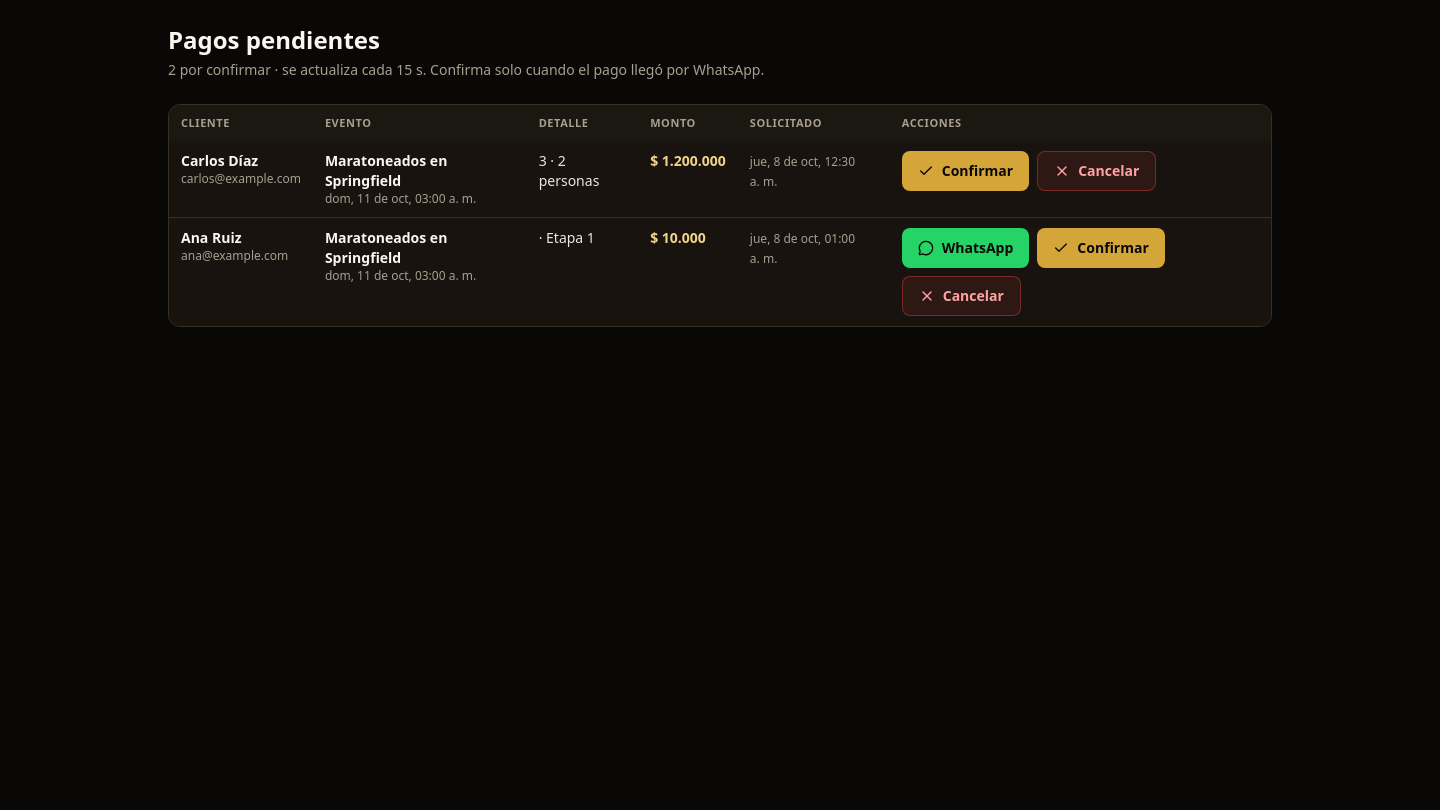
Test: AdminPaymentsPage › cancelar un tiquete envía la cancelación tras confirmar en el modal
Click the button with aria-label "Cancelar solicitud de Ana Ruiz" at (961, 296), box [902,276,1021,316]
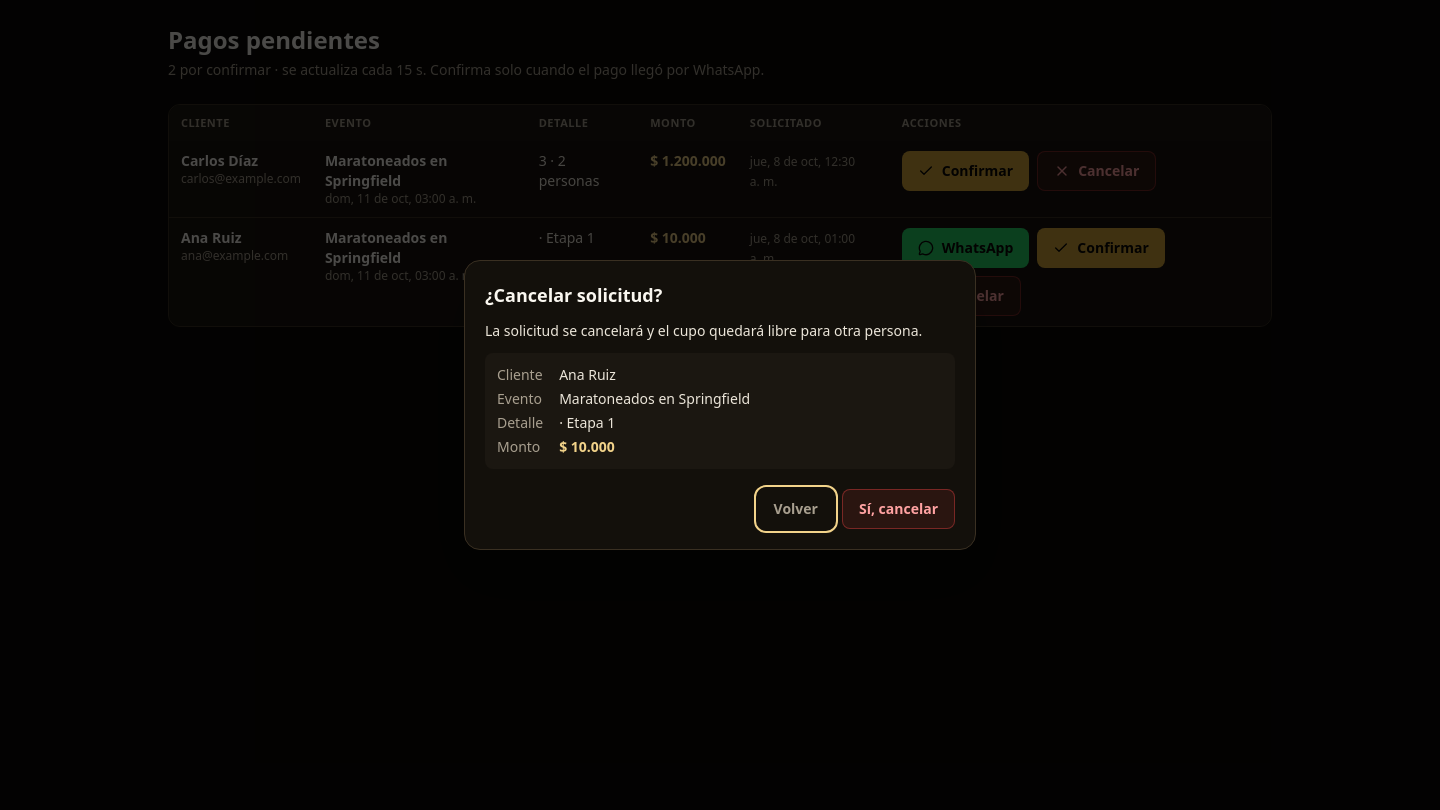
Click the button "Sí, cancelar" at (898, 509), box [842,489,955,529]
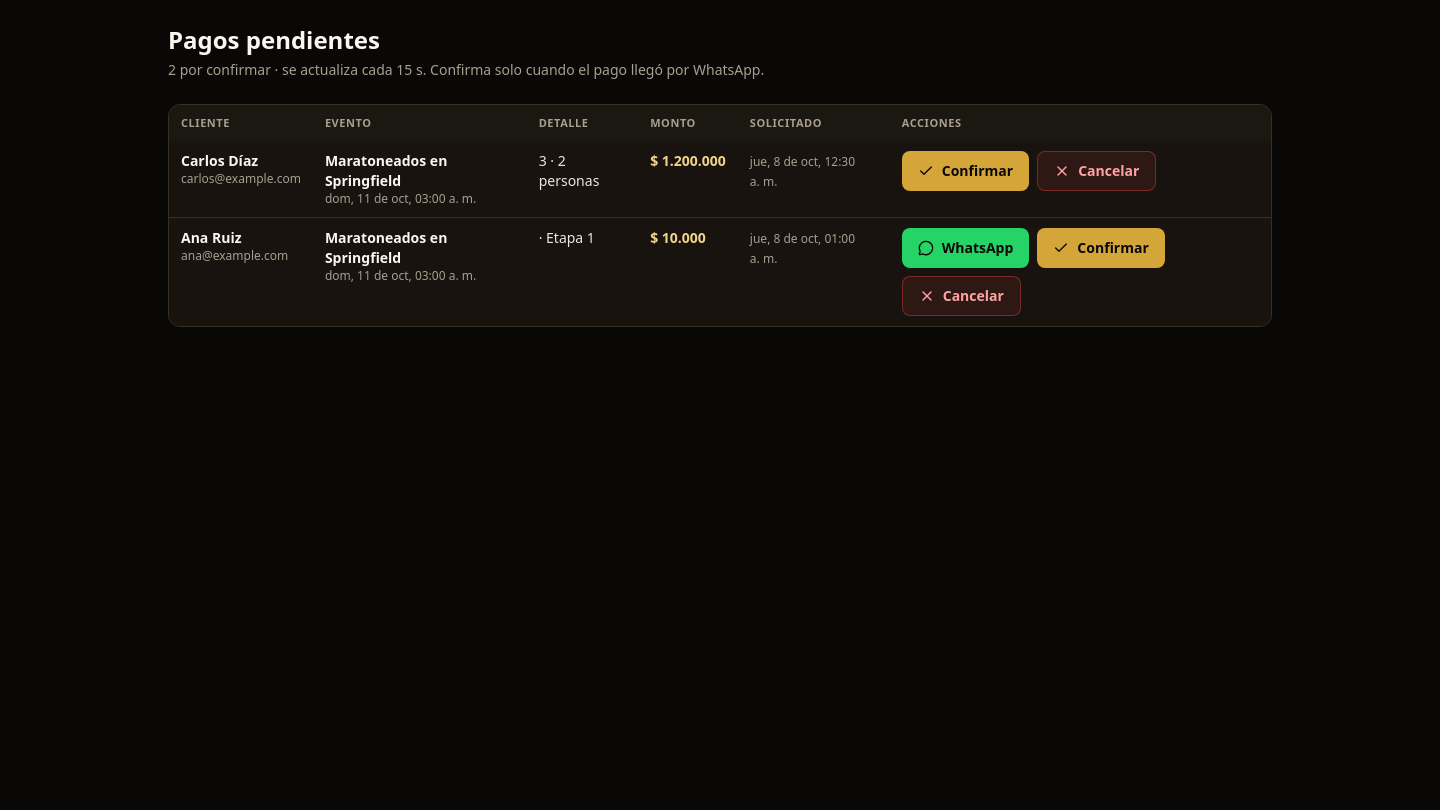
Check: the dialog is gone
